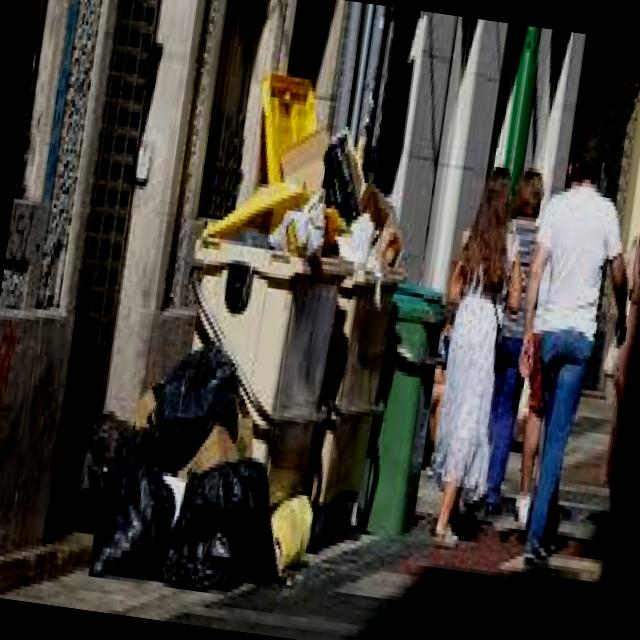garbage: (59, 95, 458, 619)
